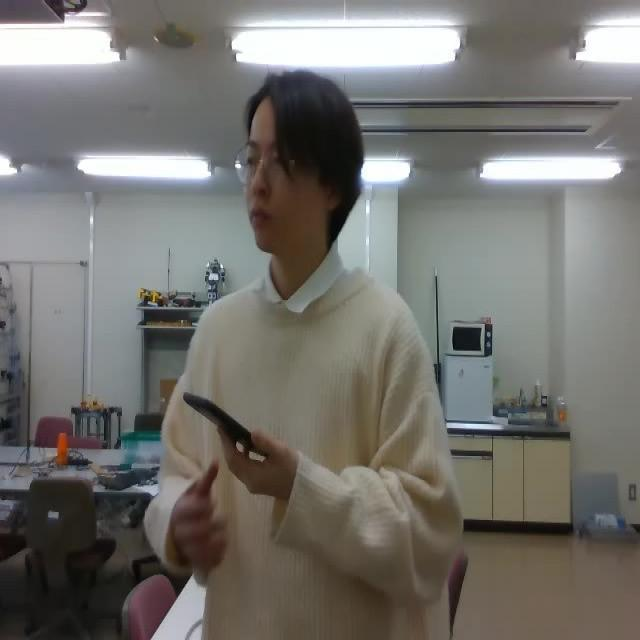Phone: (182, 390, 270, 460)
